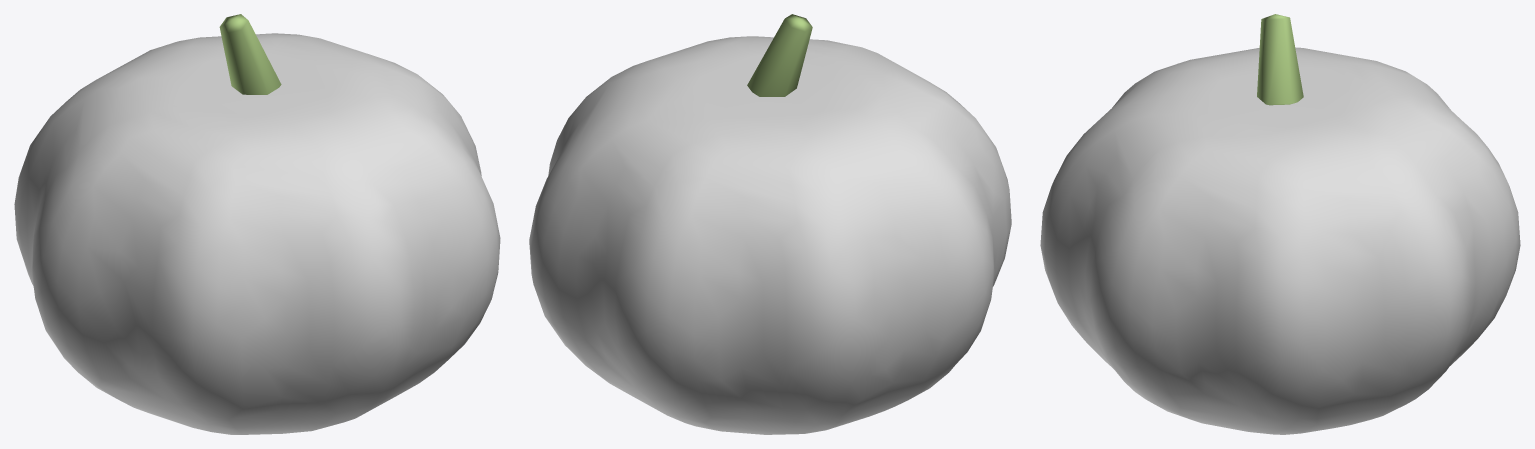
File: HarvestPumpkin.glb
3 renders of one model, left to right at view 1: azimuth 30°, elevation 25°; view 2: azimuth 150°, elevation 25°; view 3: azimuth 270°, elevation 25°, orthographic. The views are drawn at different scales.
Parts seen in each view (by area): view 1: Pumpkin, Stem; view 2: Pumpkin, Stem; view 3: Pumpkin, Stem.
Part boxes in pixels (<box>): Pumpkin: <box>14,33,500,434</box>; Stem: <box>219,14,281,94</box>; Pumpkin: <box>529,36,1011,434</box>; Stem: <box>747,14,812,96</box>; Pumpkin: <box>1040,47,1520,434</box>; Stem: <box>1257,14,1303,105</box>.
Bounding box in the file's own units: 2 × 1.75 × 2.
